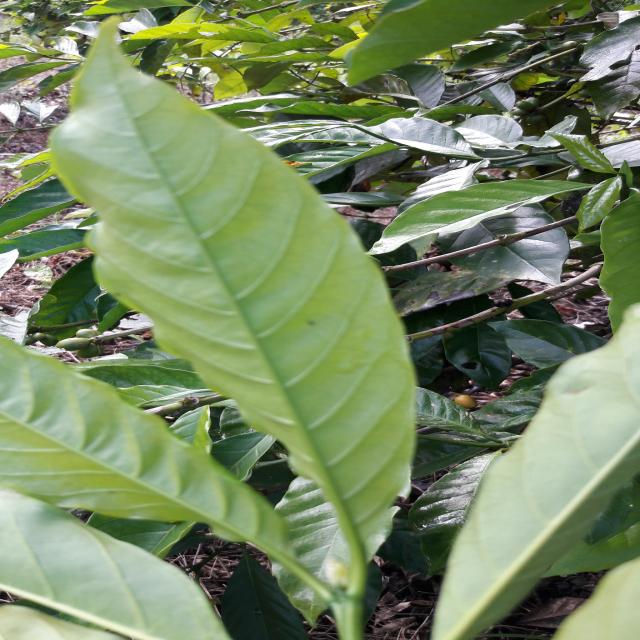Sanas: (41, 18, 418, 640)
